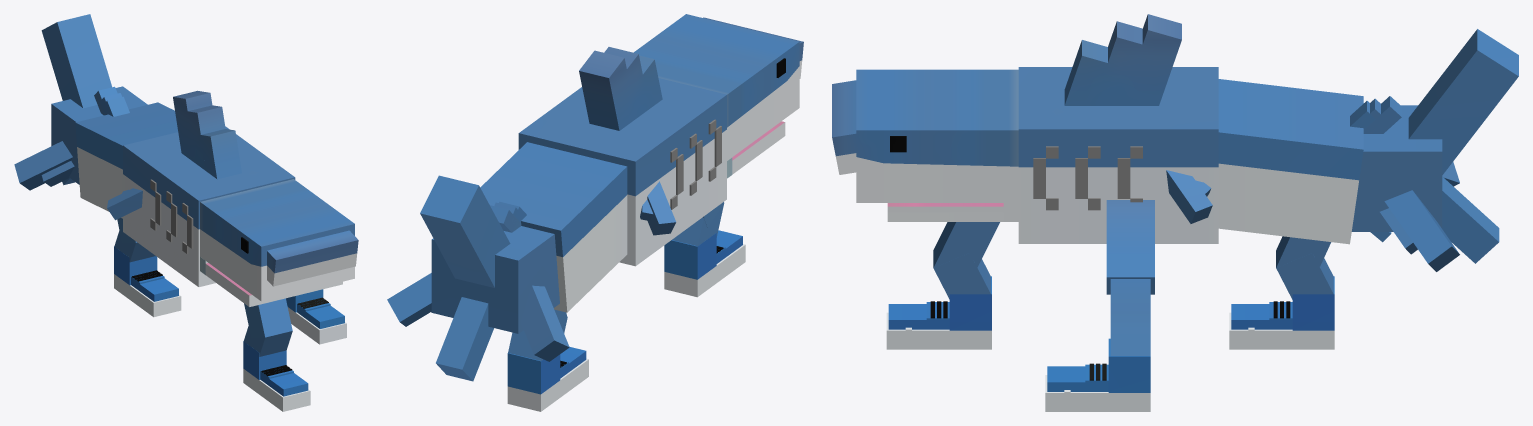
File: Tralalelo.fbx
The picture shows the model from 3 angles, left to right: view 1: azimuth 30°, elevation 25°; view 2: azimuth 150°, elevation 25°; view 3: azimuth 270°, elevation 25°; orthographic projection. The views are drawn at different scales.
Visible parts, largest first — view 1: Object.021; view 2: Object.021; view 3: Object.021.
Boxes of the visible parts, x1,y1,x2,y2 form: Object.021: (14, 14, 358, 411); Object.021: (387, 14, 803, 411); Object.021: (832, 14, 1518, 411).
Bounding box in the file's own units: 1.89 × 2.36 × 4.6.
